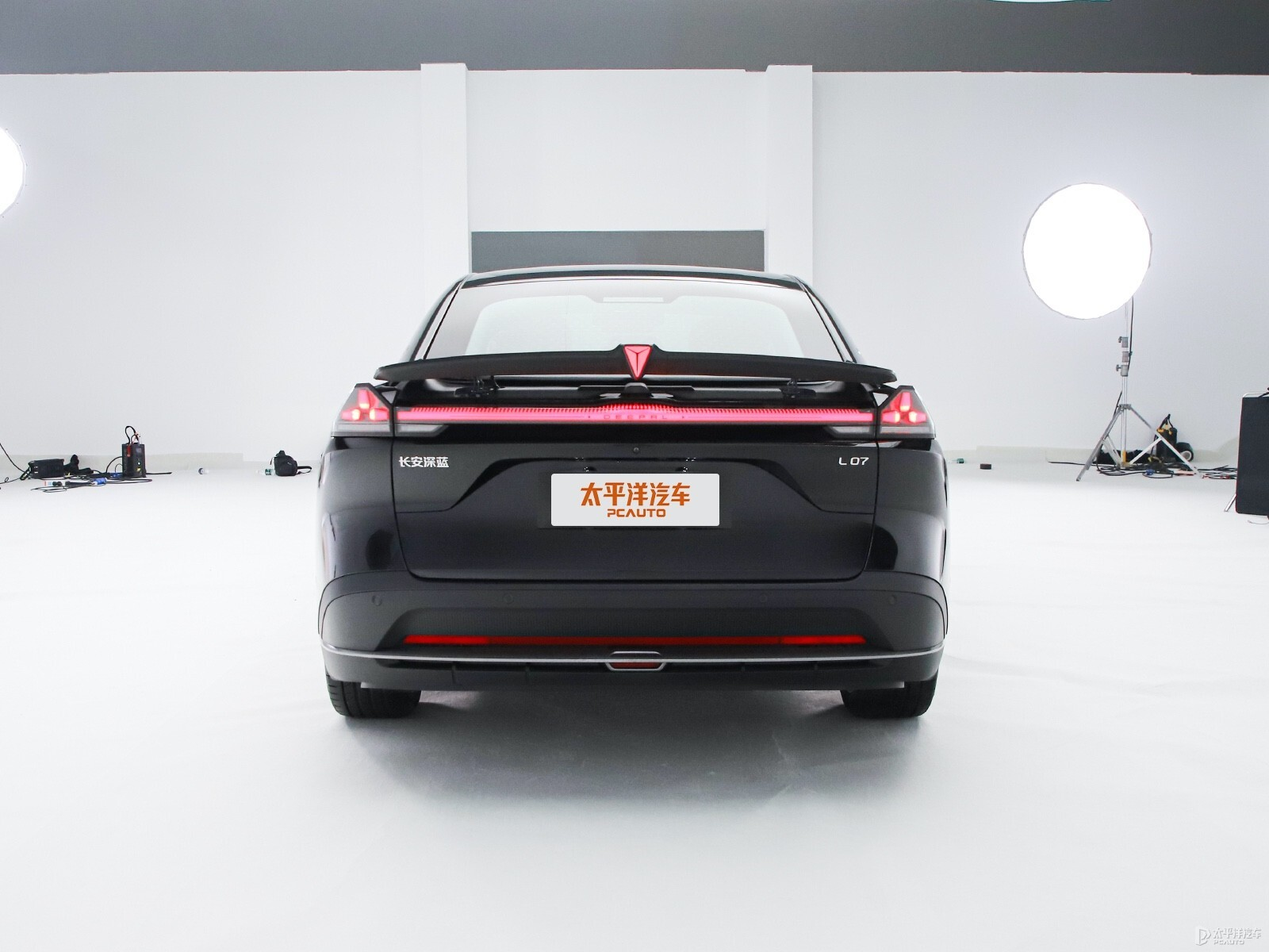Deepal: (625, 347, 650, 377)
